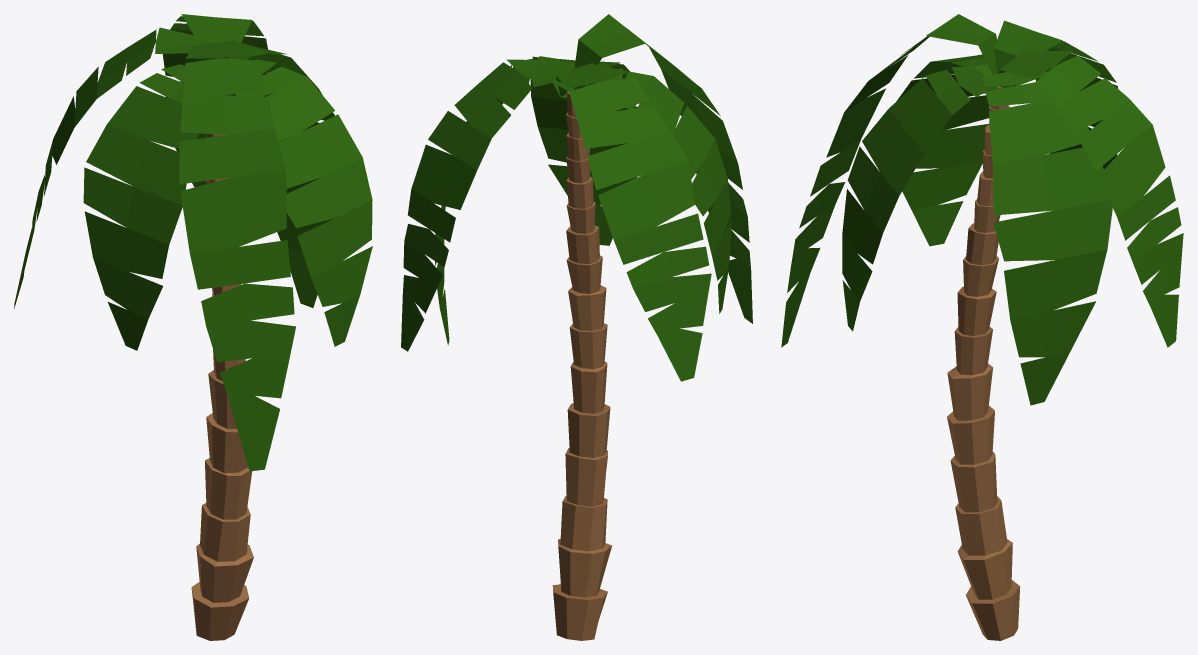
Rendered from palm.obj.
3 renders of one model, left to right at view 1: azimuth 30°, elevation 25°; view 2: azimuth 150°, elevation 25°; view 3: azimuth 270°, elevation 25°, orthographic.
Visible parts, largest first — view 1: Cube.007; view 2: Cube.007; view 3: Cube.007.
Part boxes in pixels (x1,y1,x2,y2): Cube.007: [14, 14, 372, 640]; Cube.007: [401, 14, 752, 640]; Cube.007: [781, 14, 1183, 640].
Bounding box in the file's own units: 1.16 × 2.32 × 1.41.
